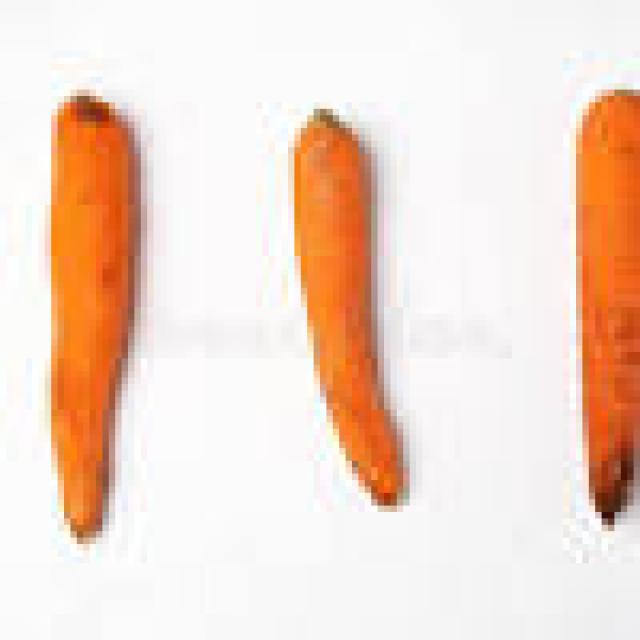Stale_Carrot: (592, 94, 640, 533)
